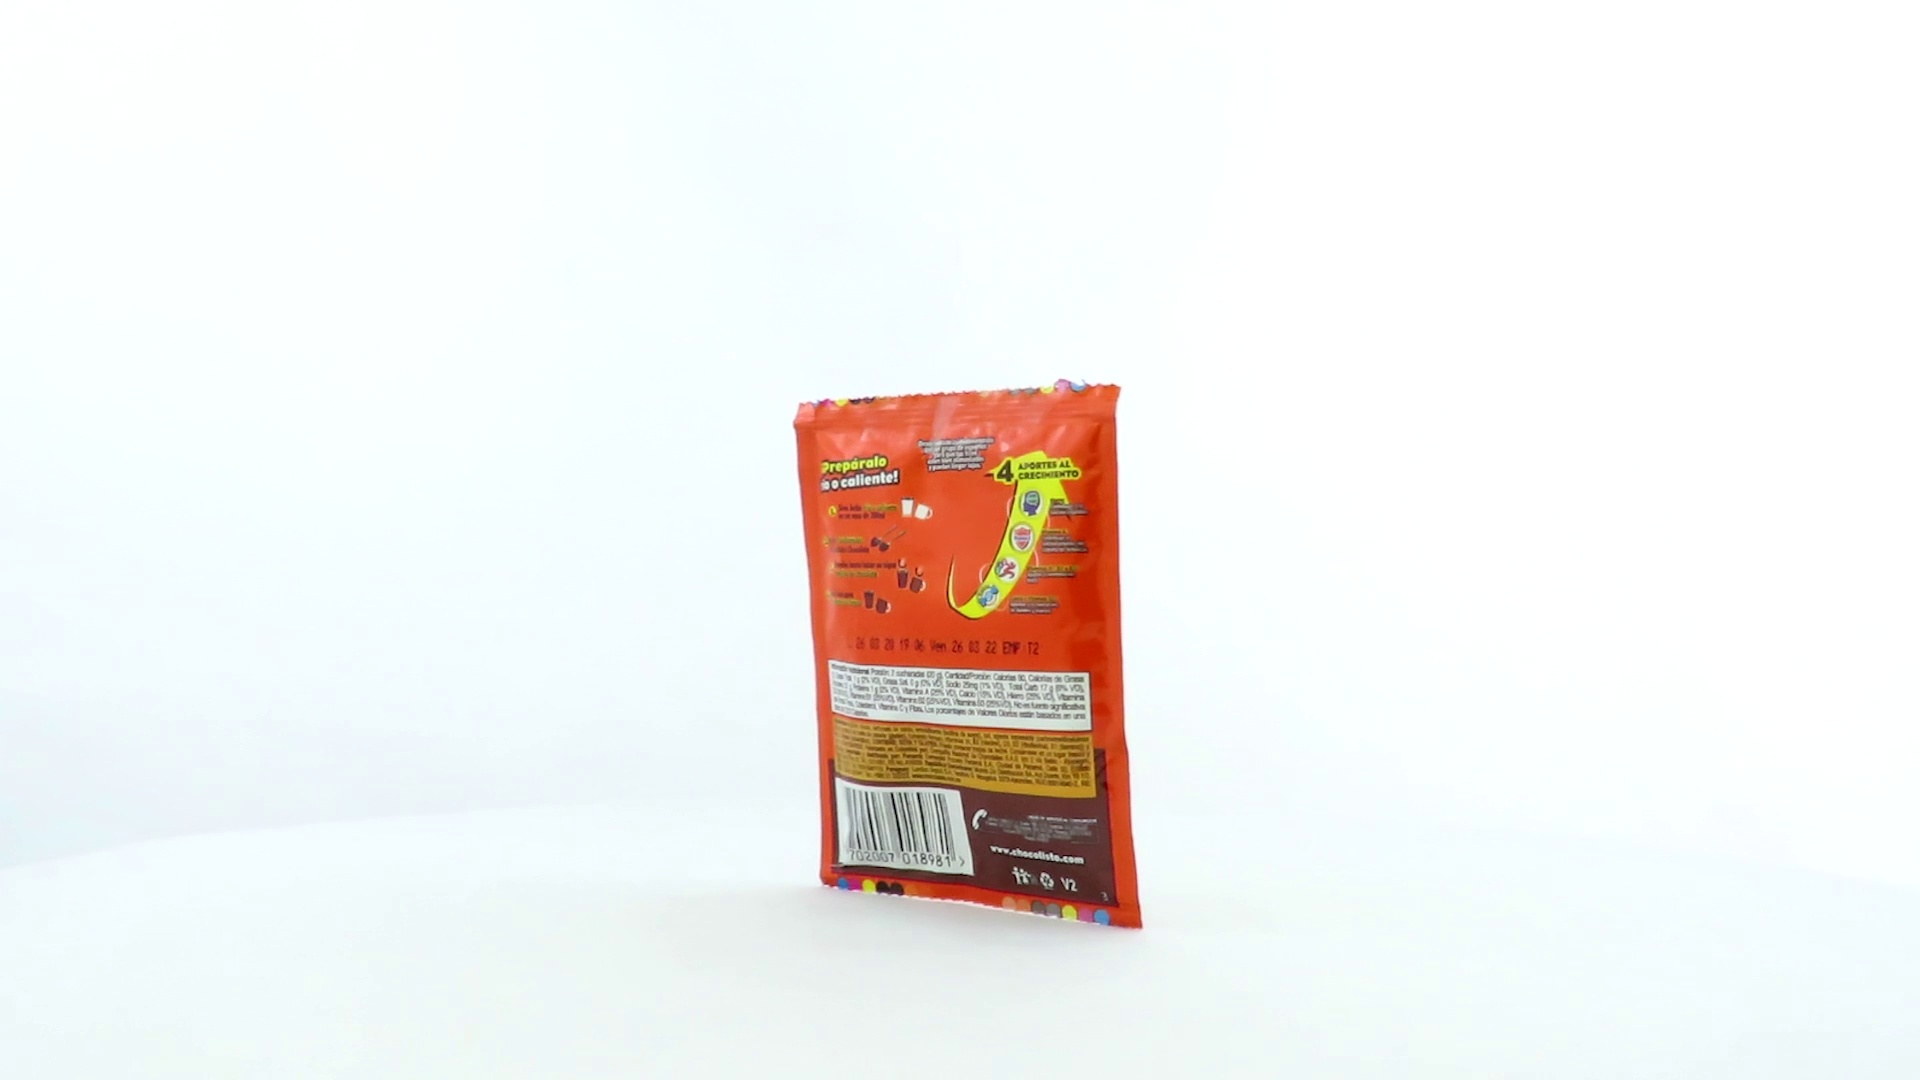COL0170103SOB02000: (789, 373, 1149, 935)
